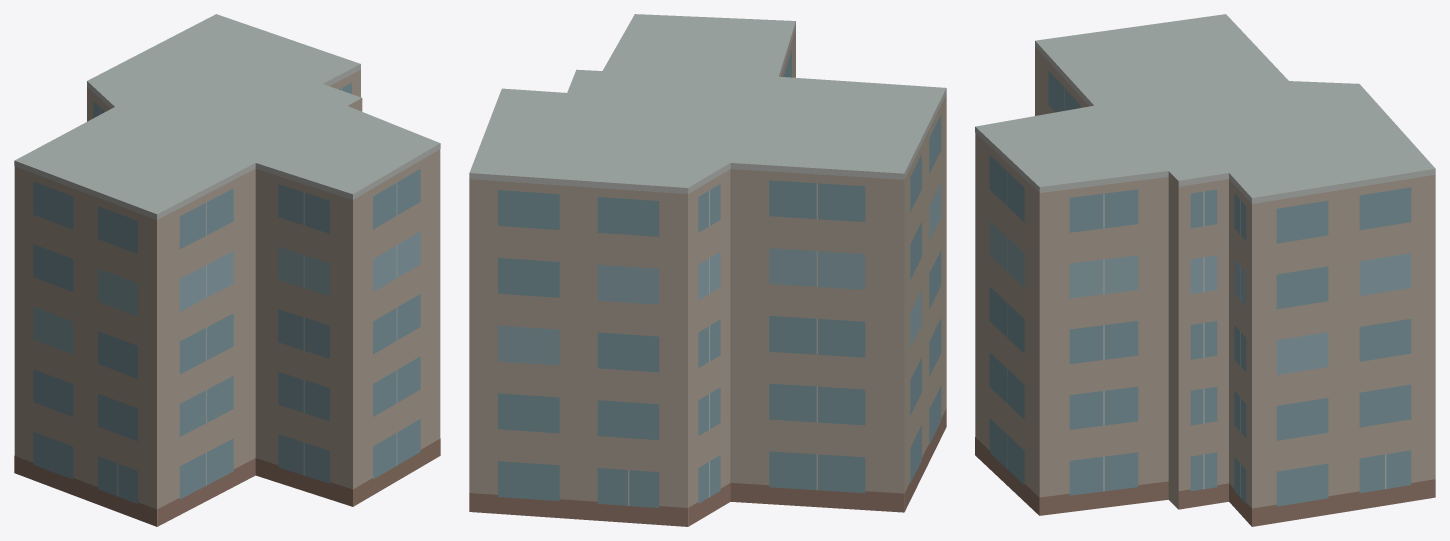
The model's file is survey-upis-32864809.glb.
3 views of the same model, side by side, from view 1: azimuth 30°, elevation 25°; view 2: azimuth 150°, elevation 25°; view 3: azimuth 270°, elevation 25° (orthographic). The views are drawn at different scales.
Parts seen in each view (by area): view 1: survey-upis-32864809.tmp; view 2: survey-upis-32864809.tmp; view 3: survey-upis-32864809.tmp.
Part boxes in pixels (x1,y1,x2,y2): survey-upis-32864809.tmp: [14, 14, 440, 526]; survey-upis-32864809.tmp: [469, 14, 946, 526]; survey-upis-32864809.tmp: [975, 14, 1435, 526].
Bounding box in the file's own units: 16.17 × 13.45 × 17.09.
